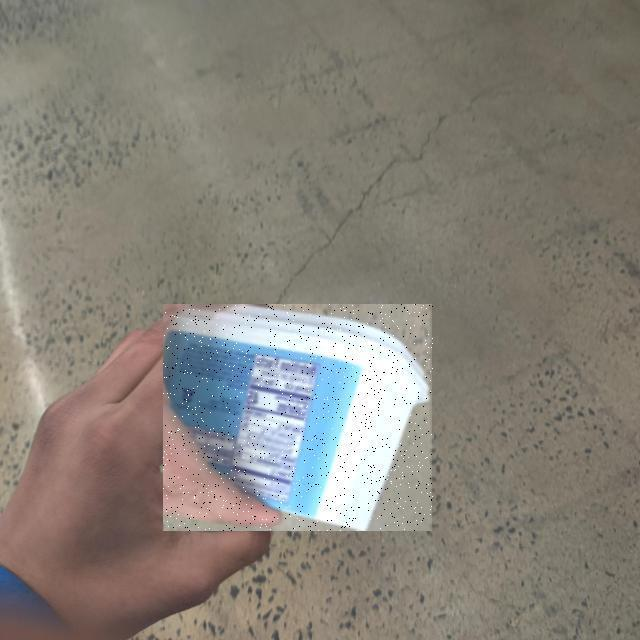Butter: (164, 304, 434, 531)
